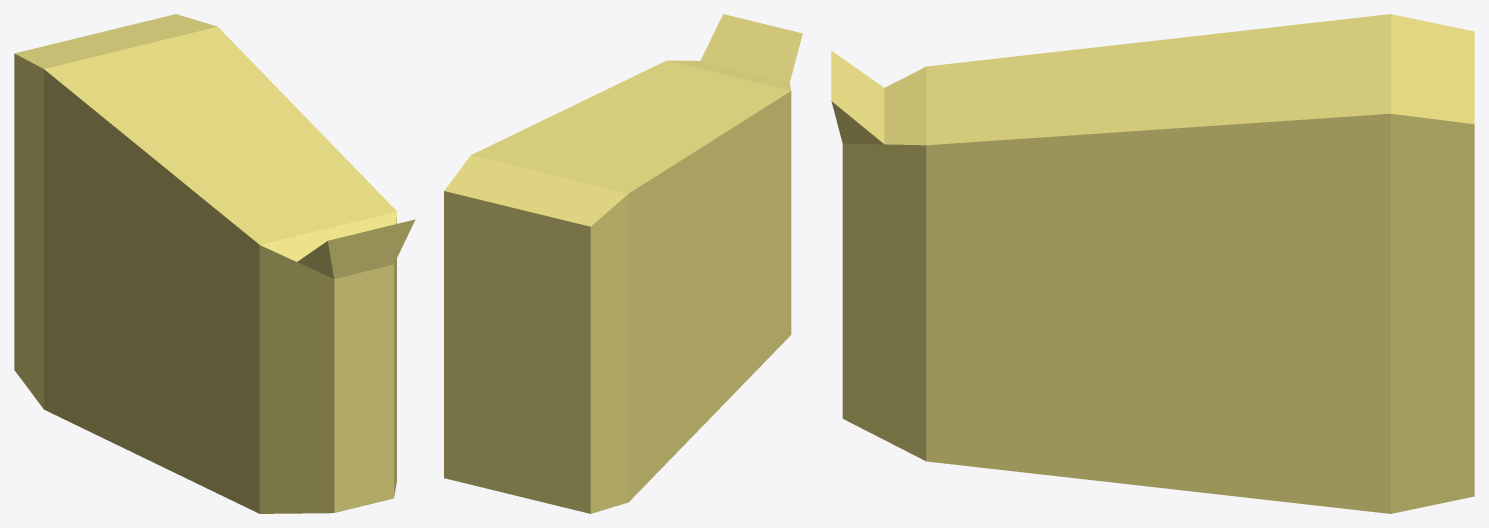
Rendered from SaltedButterBag.obj.
The picture shows the model from 3 angles, left to right: view 1: azimuth 30°, elevation 25°; view 2: azimuth 150°, elevation 25°; view 3: azimuth 270°, elevation 25°; orthographic projection. The views are drawn at different scales.
Parts seen in each view (by area): view 1: bag.000_bag.001; view 2: bag.000_bag.001; view 3: bag.000_bag.001.
Boxes of the visible parts, x1,y1,x2,y2 form: bag.000_bag.001: (14, 14, 415, 513); bag.000_bag.001: (444, 14, 802, 513); bag.000_bag.001: (831, 14, 1474, 513).
Size of the model in its own units: 0.1101 by 0.2059 by 0.2999.
